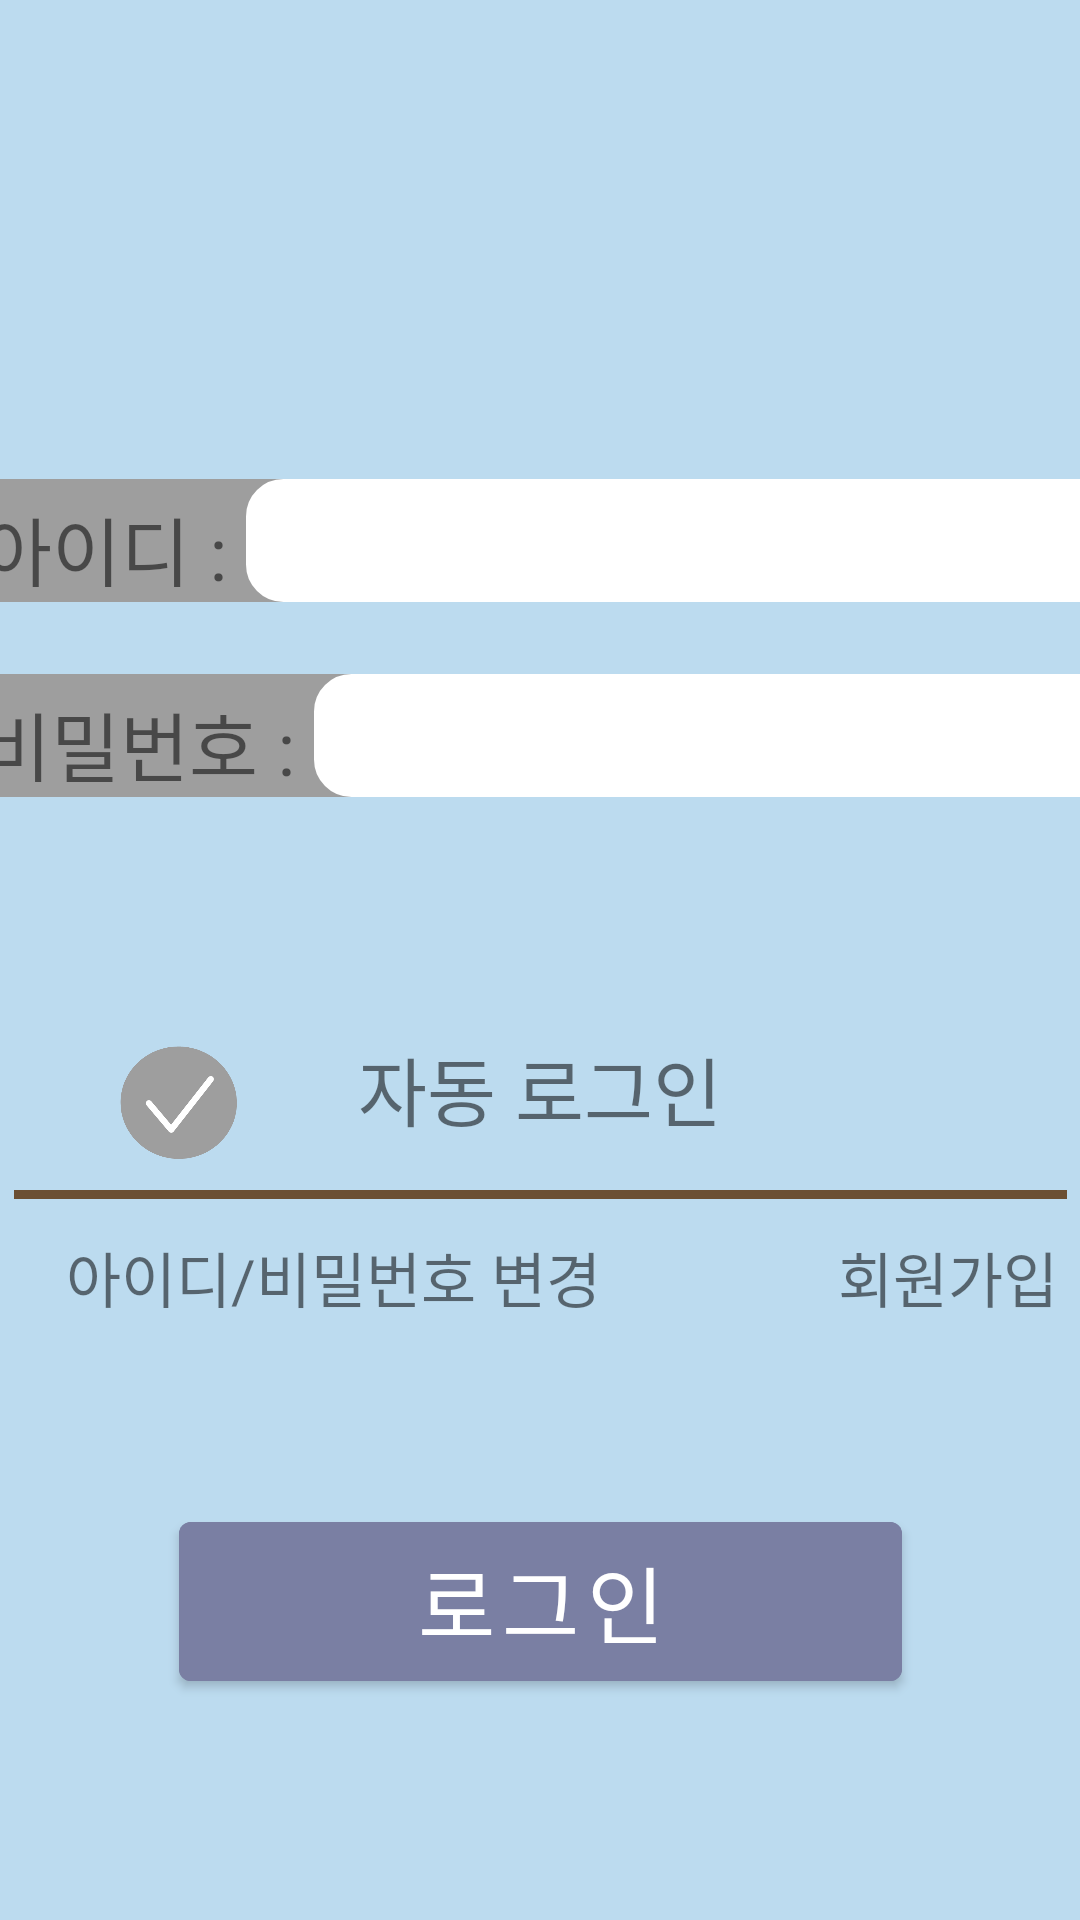

Icons on this 1080w x 1920h Android screen, each with the point to tap as point (x, y):
check: point (178, 1102)
